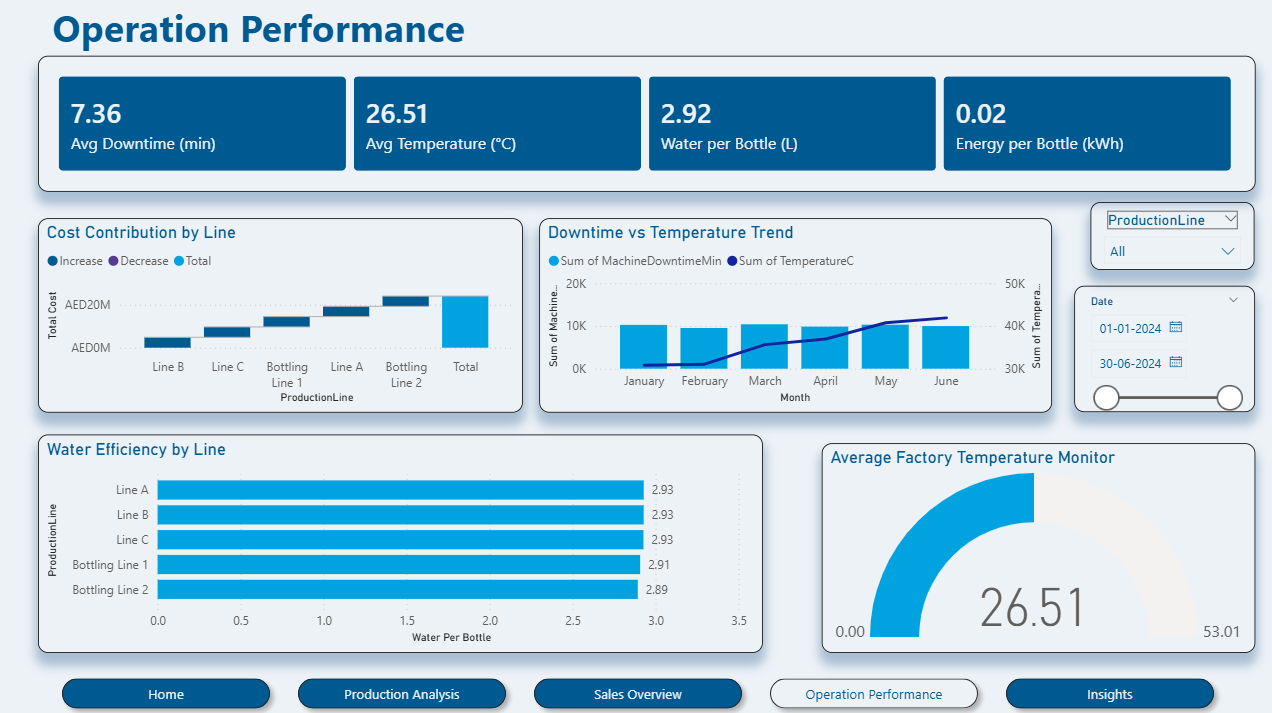

The page's visual inventory and layout, read from the dashboard file:
{"tool":"powerbi","page":{"name":"Operation Performance","canvas":[1280,720],"ordinal":3},"visuals":[{"type":"textbox","box":[40,0,441.4,77.1],"z":0},{"type":"slicer","fields":{"Values":["Rawda_production_sales.ProductionLine"]},"box":[1093.1,205.6,163.9,68.1],"z":1000},{"type":"cardVisual","fields":{"Data":["Avg(Rawda_production_sales.MachineDowntimeMin)","Avg(Rawda_production_sales.TemperatureC)","Rawda_production_sales.Water Per Bottle","Rawda_production_sales.Energy per Bottle (kWh)"]},"box":[40,58.7,1217.3,136],"z":2000},{"type":"waterfallChart","title":"Cost Contribution by Line","fields":{"Category":["Rawda_production_sales.ProductionLine"],"Y":["Rawda_production_sales.Total Cost"]},"box":[40.3,220.8,484.7,194.4],"z":3000},{"type":"lineStackedColumnComboChart","title":"Downtime vs Temperature Trend","fields":{"Category":["Rawda_production_sales.Date.Variation.Date Hierarchy.Month"],"Y":["Sum(Rawda_production_sales.MachineDowntimeMin)"],"Y2":["Sum(Rawda_production_sales.TemperatureC)"]},"box":[541.7,220.8,512.5,194.4],"z":4000},{"type":"clusteredBarChart","title":"Water Efficiency by Line","fields":{"Category":["Rawda_production_sales.ProductionLine"],"Y":["Rawda_production_sales.Water Per Bottle"]},"box":[40.3,437.5,725,218.1],"z":5000},{"type":"gauge","title":"Average Factory Temperature Monitor","fields":{"Y":["Avg(Rawda_production_sales.TemperatureC)"]},"box":[823.6,445.8,433.3,209.7],"z":6000},{"type":"slicer","fields":{"Values":["Rawda_production_sales.Date"]},"box":[1076.4,288.9,180.6,126.4],"z":7000},{"type":"pageNavigator","box":[54.7,672,1170.7,48],"z":8000}]}

Visuals, with their boxes in screenshot pixels (x1, y1, x2, y2), scaled from the page's 1280x720 canvas onto the 1272x713 screenshot:
textbox: (x1=40, y1=0, x2=478, y2=76)
slicer - Rawda_production_sales.ProductionLine: (x1=1086, y1=204, x2=1249, y2=271)
cardVisual - Avg(Rawda_production_sales.MachineDowntimeMin) x Avg(Rawda_production_sales.TemperatureC): (x1=40, y1=58, x2=1249, y2=193)
"Cost Contribution by Line" waterfallChart: (x1=40, y1=219, x2=522, y2=411)
"Downtime vs Temperature Trend" lineStackedColumnComboChart: (x1=538, y1=219, x2=1048, y2=411)
"Water Efficiency by Line" clusteredBarChart: (x1=40, y1=433, x2=761, y2=649)
"Average Factory Temperature Monitor" gauge: (x1=818, y1=441, x2=1249, y2=649)
slicer - Rawda_production_sales.Date: (x1=1070, y1=286, x2=1249, y2=411)
pageNavigator: (x1=54, y1=665, x2=1218, y2=712)
